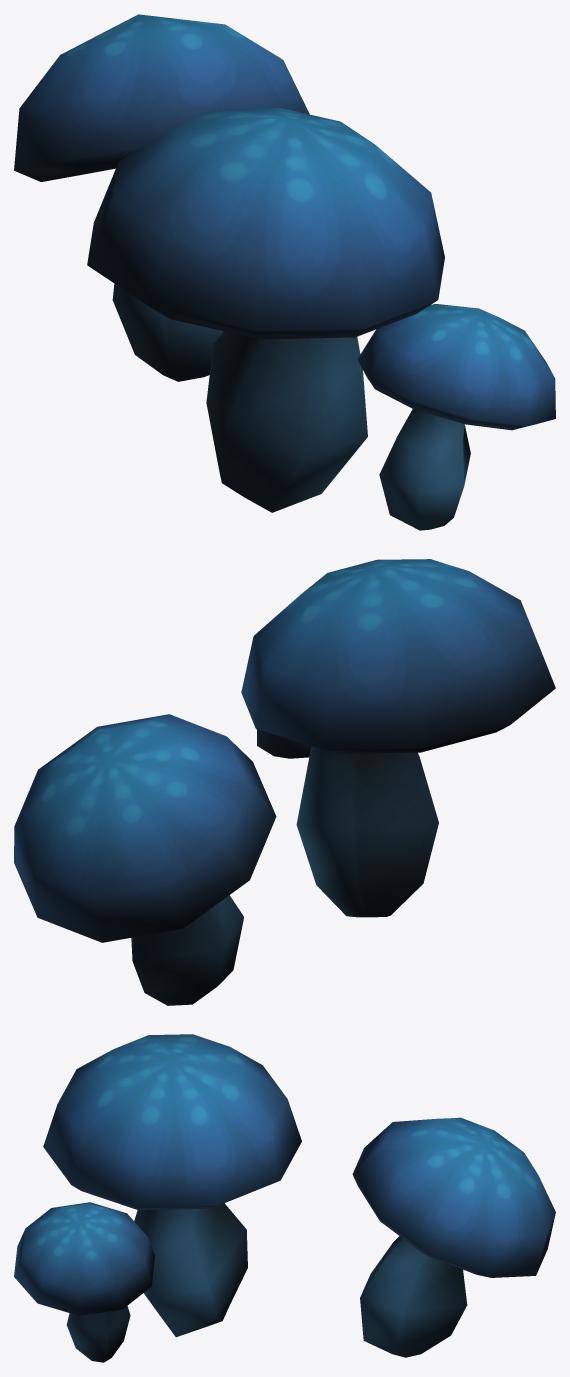
File: Mushroom_03.FBX
3 renders of one model, top to bottom at view 1: azimuth 30°, elevation 25°; view 2: azimuth 150°, elevation 25°; view 3: azimuth 270°, elevation 25°, orthographic. The views are drawn at different scales.
Parts seen in each view (by area): view 1: Mushroom3; view 2: Mushroom3; view 3: Mushroom3.
Boxes of the visible parts, bbox=[...] form: Mushroom3: bbox=[14, 14, 555, 530]; Mushroom3: bbox=[14, 559, 555, 1005]; Mushroom3: bbox=[14, 1034, 555, 1362].
Bounding box in the file's own units: 22.02 × 21.71 × 38.56.
